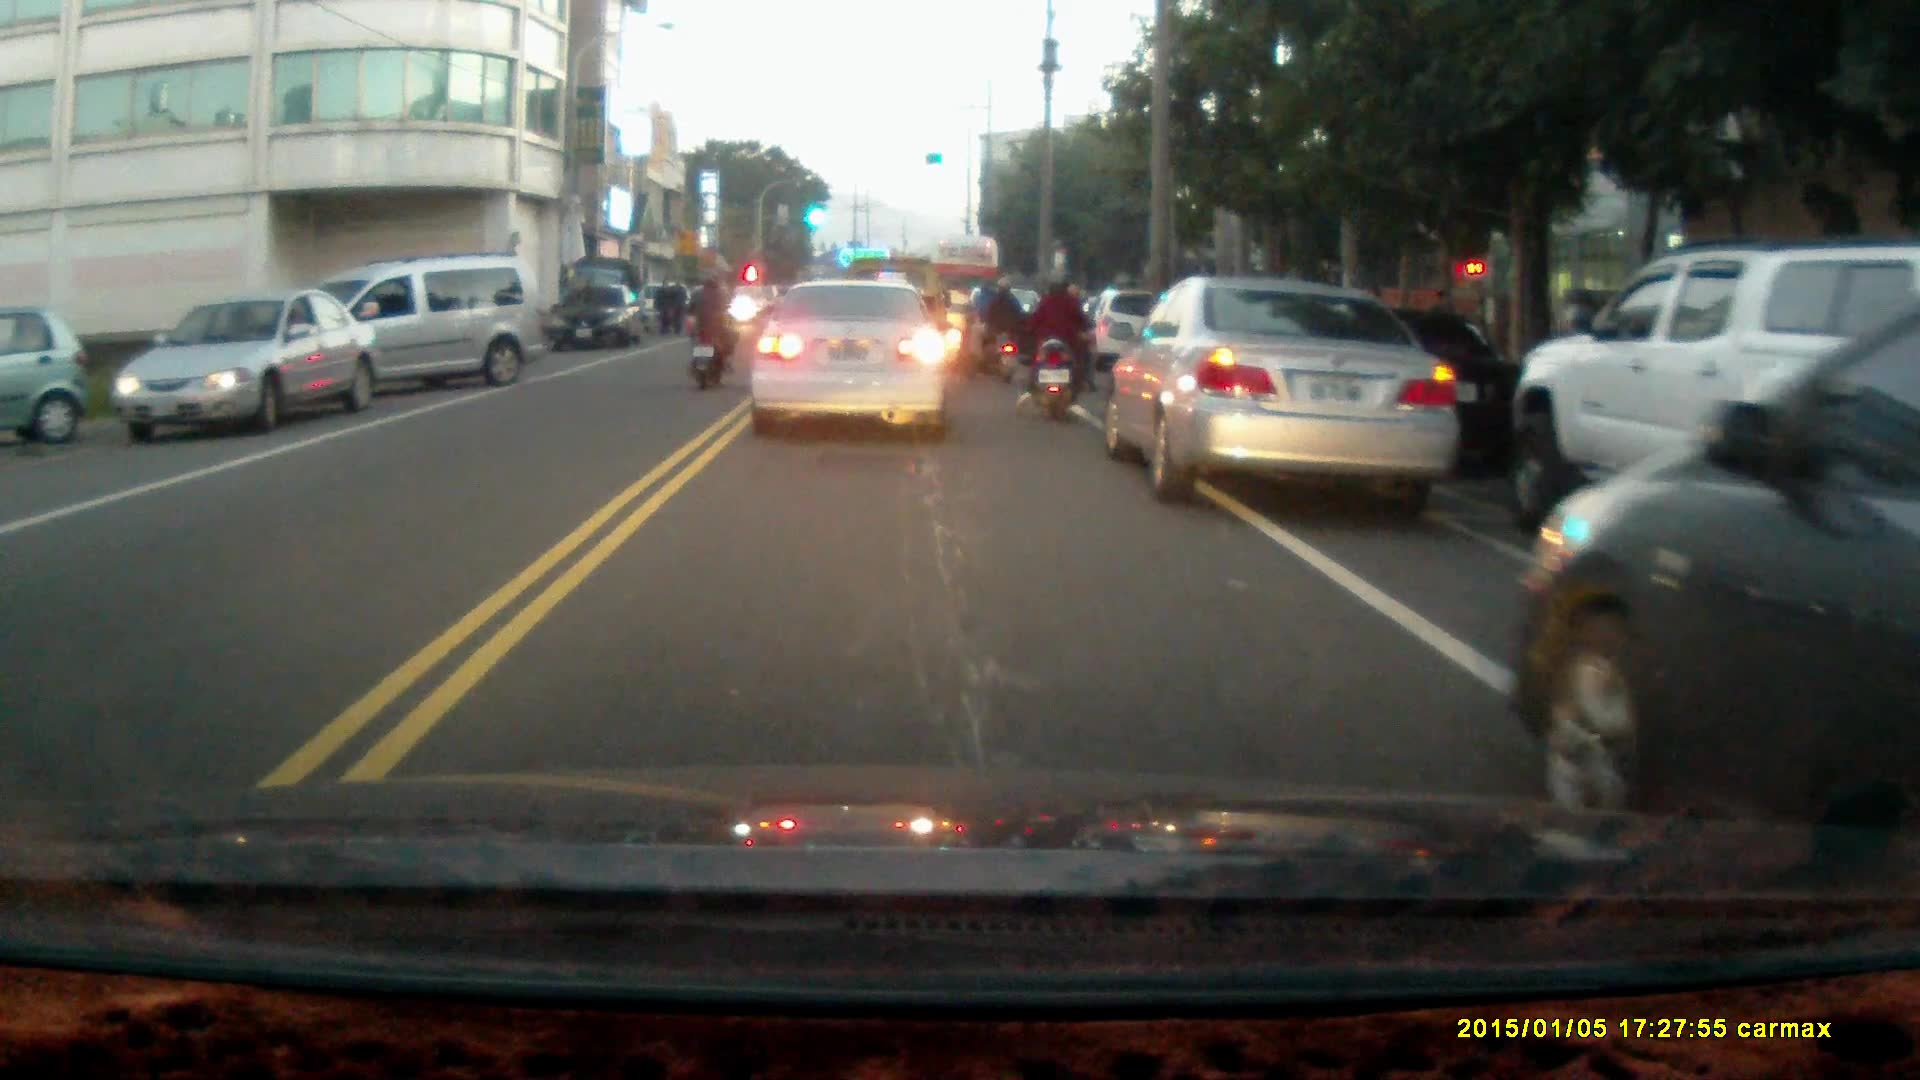pedestrian: (653, 277, 678, 340)
rider: (1016, 267, 1096, 422), (959, 270, 1023, 382), (684, 274, 735, 389)
vehicle: (1513, 294, 1920, 894), (1504, 247, 1920, 556), (1099, 270, 1461, 505), (260, 255, 548, 412), (114, 292, 377, 440), (747, 278, 950, 447), (1, 296, 90, 445), (547, 282, 645, 352)
